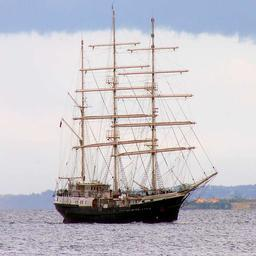Ship: (45, 3, 223, 227)
